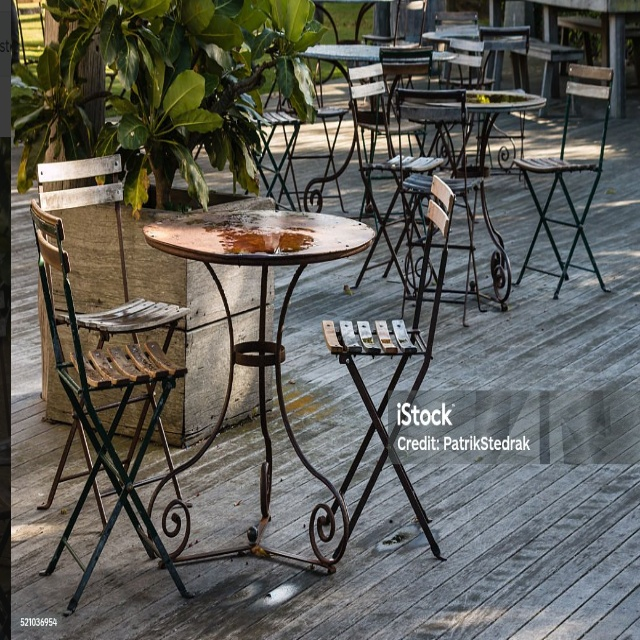obstacle: (147, 202, 354, 578), (33, 210, 188, 597), (320, 177, 459, 567), (34, 147, 180, 337), (508, 54, 612, 295)
